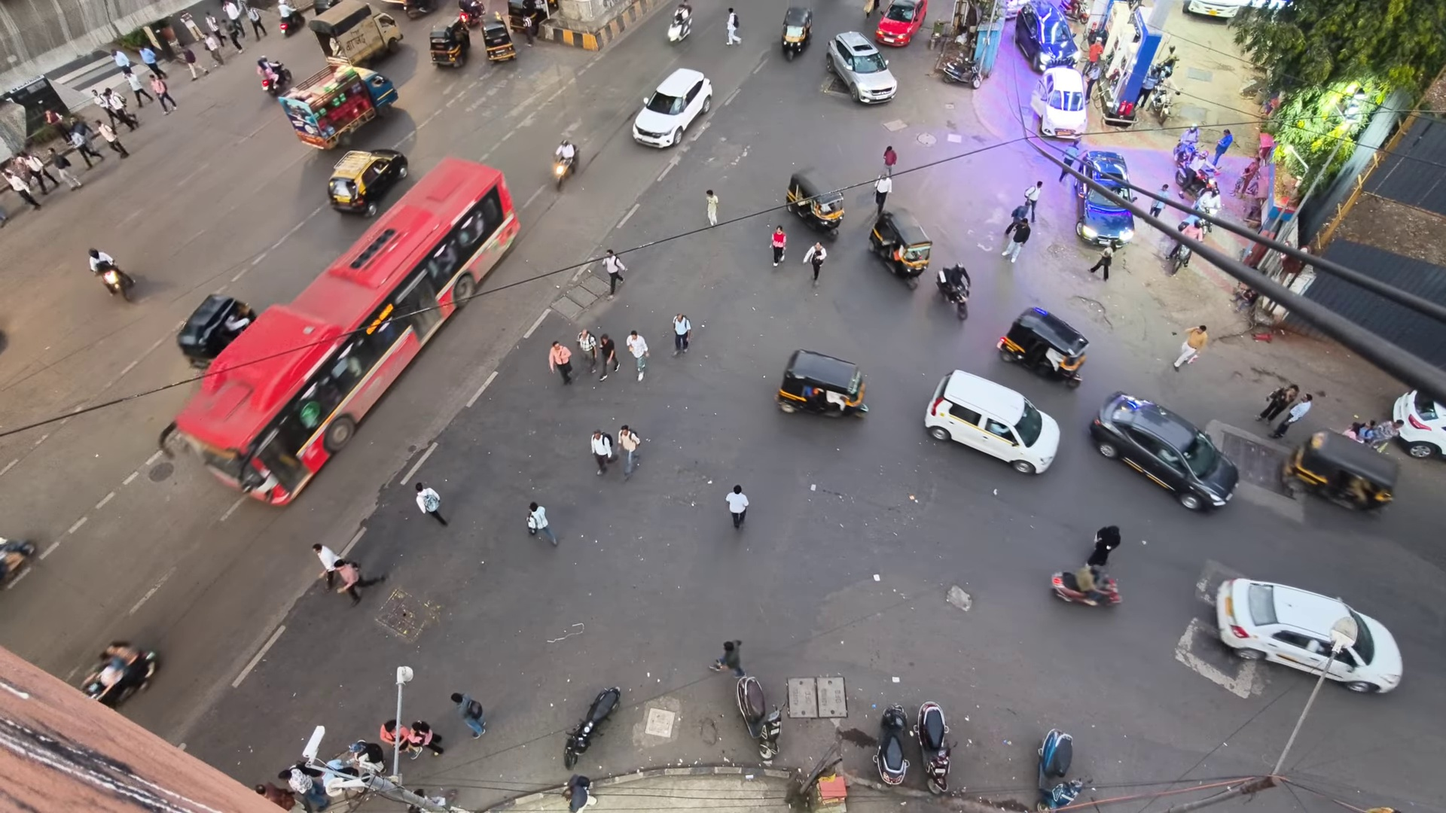walking: (279, 763, 329, 812), (337, 559, 385, 605), (1271, 394, 1312, 438), (0, 168, 41, 209), (450, 693, 485, 738), (1173, 324, 1207, 370), (20, 152, 58, 193), (102, 87, 138, 130), (379, 720, 419, 758), (1256, 385, 1298, 421), (1086, 525, 1121, 568), (69, 124, 103, 168), (416, 481, 447, 525), (312, 543, 340, 589), (349, 740, 385, 775), (529, 501, 557, 546), (410, 720, 444, 757), (563, 775, 596, 812), (712, 640, 745, 677), (618, 425, 640, 480), (1002, 220, 1030, 262), (602, 248, 626, 297), (255, 781, 295, 810), (625, 330, 648, 379), (150, 77, 177, 114), (725, 485, 748, 528), (598, 333, 619, 380), (126, 73, 154, 108), (590, 430, 612, 474), (549, 341, 571, 384), (92, 89, 119, 124), (804, 242, 826, 283), (1089, 244, 1113, 281), (577, 328, 597, 372), (1136, 71, 1159, 109), (139, 46, 166, 78), (1023, 181, 1043, 222), (1058, 143, 1079, 181), (1211, 129, 1233, 165), (1084, 61, 1102, 104), (673, 313, 690, 356), (874, 174, 891, 214), (770, 224, 786, 266), (246, 6, 267, 38), (203, 32, 222, 66), (1177, 216, 1203, 240), (726, 8, 741, 45), (204, 13, 223, 42), (111, 48, 131, 73), (706, 190, 718, 225), (883, 145, 897, 175), (1149, 199, 1164, 217), (200, 66, 208, 75)
